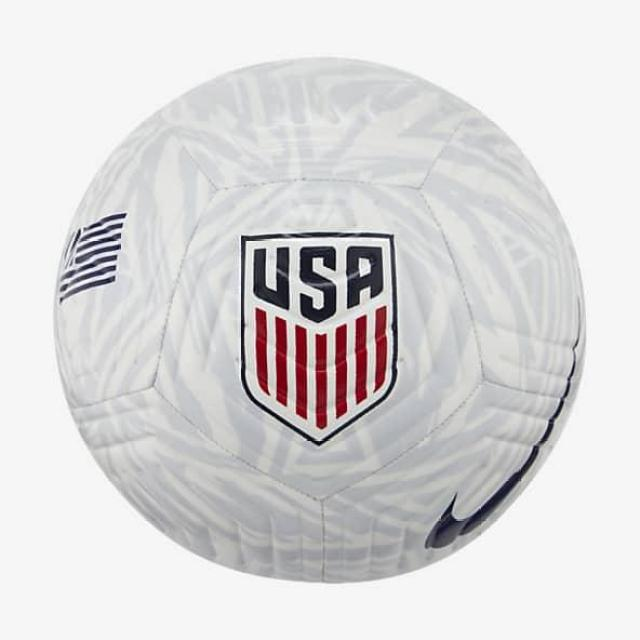Soccer Ball: (55, 57, 586, 585)
